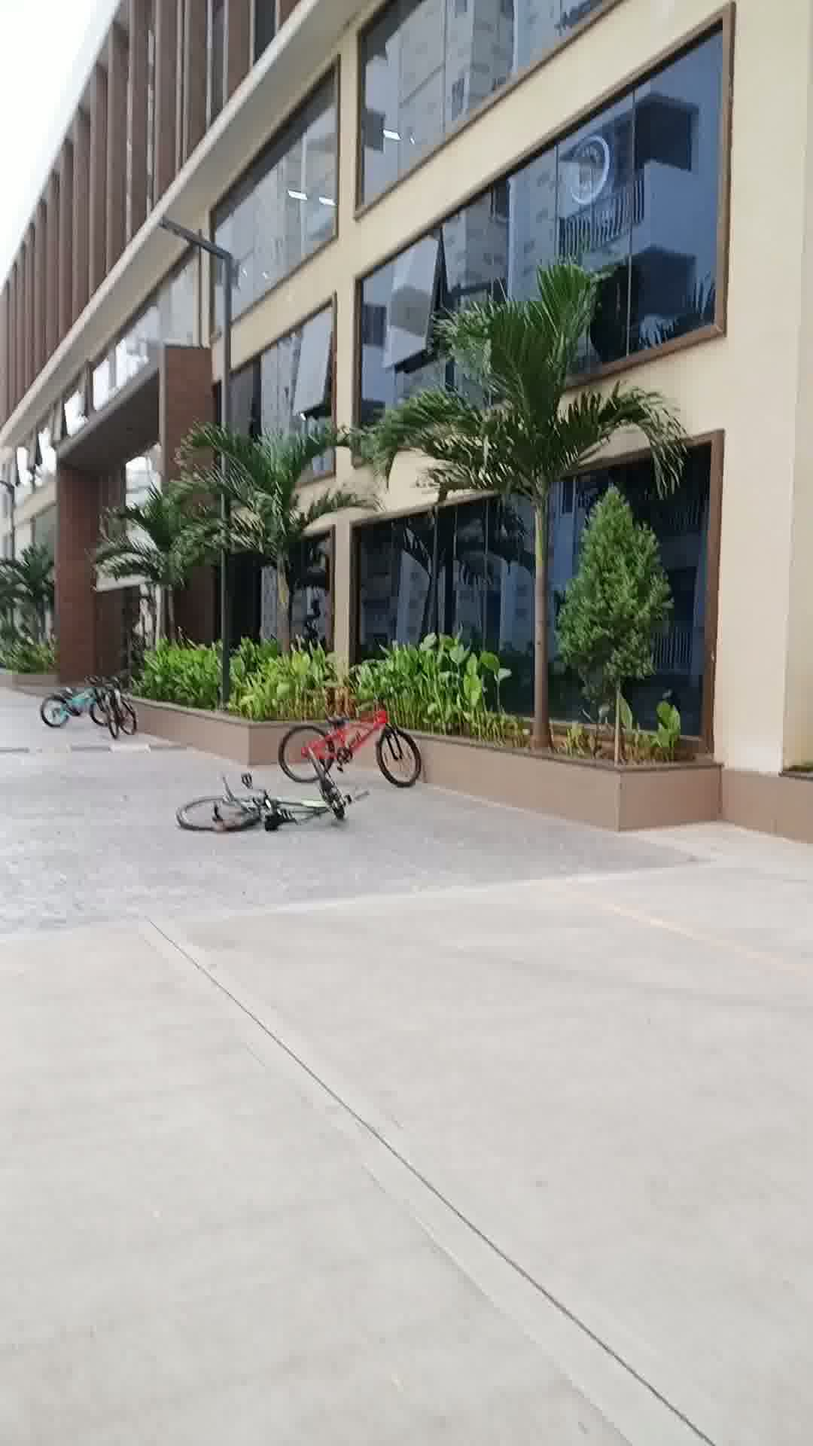bicycle: (258, 683, 430, 792), (165, 768, 370, 846), (37, 669, 151, 748)
tree: (373, 265, 683, 760), (179, 404, 390, 726), (85, 453, 213, 695)
